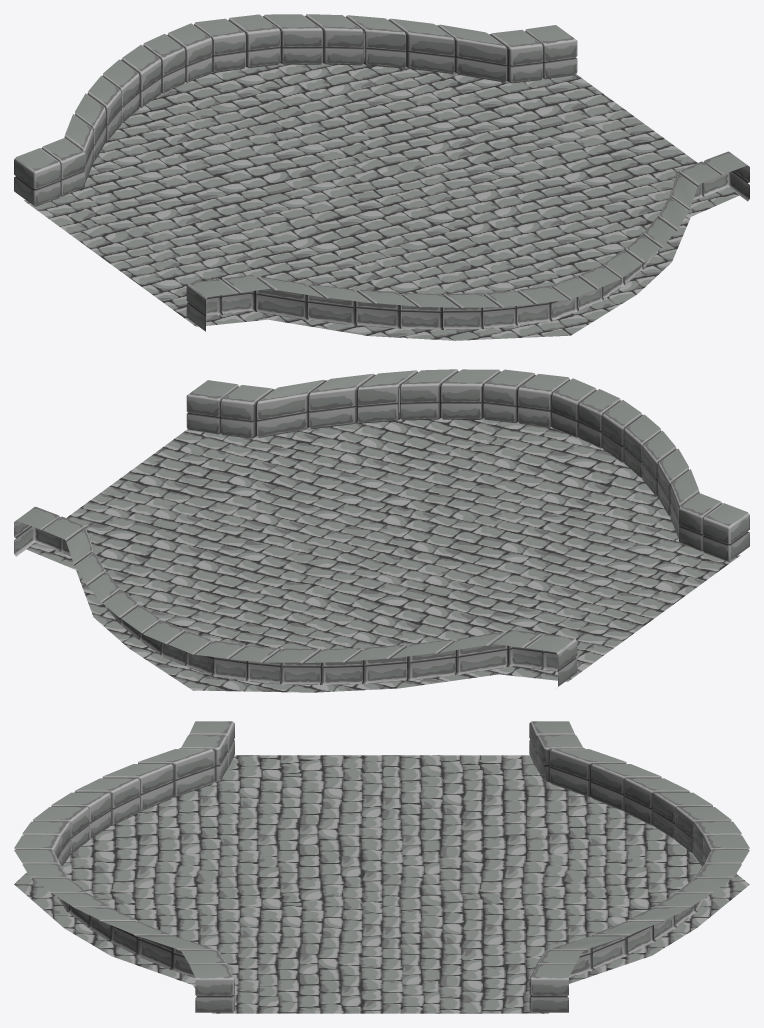
The model's file is mod_med_her_part_a_11.fbx.
The picture shows the model from 3 angles, top to bottom: view 1: azimuth 30°, elevation 25°; view 2: azimuth 150°, elevation 25°; view 3: azimuth 270°, elevation 25°; orthographic projection. The views are drawn at different scales.
Parts seen in each view (by area): view 1: mod_med_her_part_a_11; view 2: mod_med_her_part_a_11; view 3: mod_med_her_part_a_11.
Part boxes in pixels (x1,y1,x2,y2): mod_med_her_part_a_11: [14, 14, 749, 340]; mod_med_her_part_a_11: [14, 369, 749, 692]; mod_med_her_part_a_11: [14, 721, 749, 1013].
Size of the model in its own units: 180 by 11.47 by 216.
